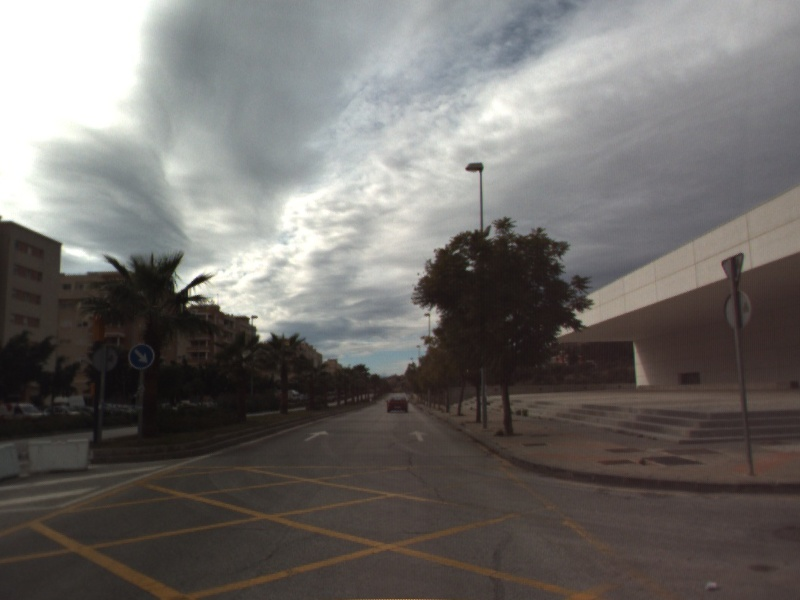STRAIGHT: (301, 428, 331, 443), (407, 428, 430, 443)
